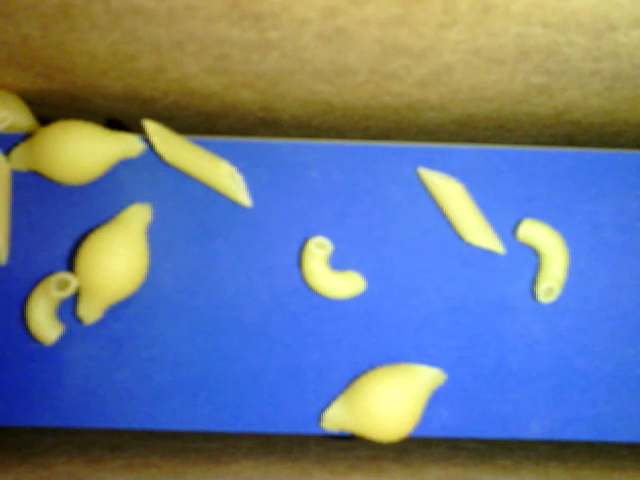elbow: (518, 212, 570, 309), (301, 230, 371, 301), (23, 272, 81, 347)
penne: (137, 115, 255, 211), (415, 163, 504, 256), (1, 148, 11, 261)
shell: (71, 197, 160, 332), (316, 362, 452, 446), (11, 117, 150, 189), (2, 87, 46, 137)
